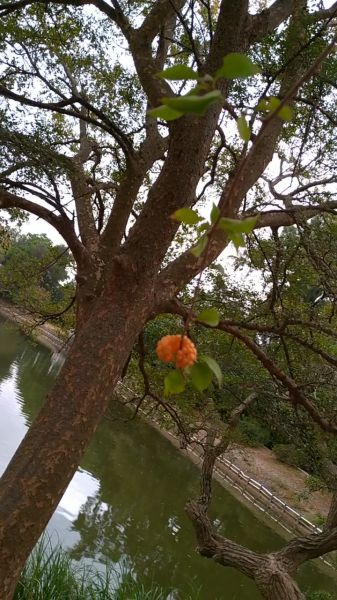eggs: (153, 326, 202, 378)
